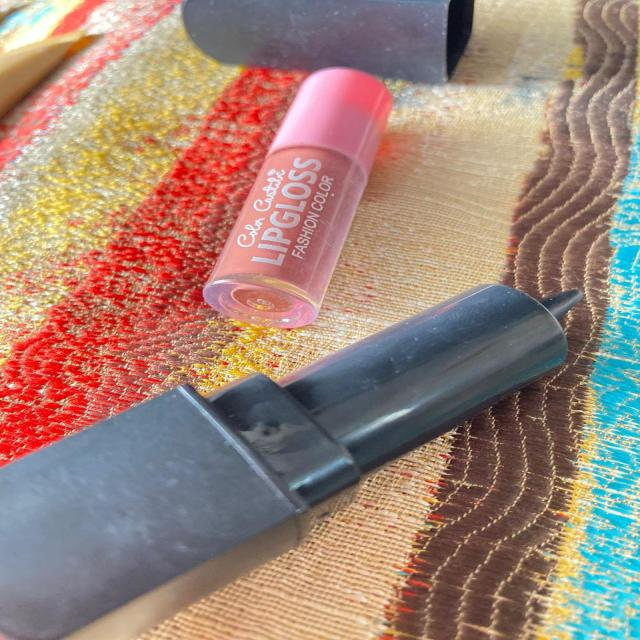kajal: (0, 249, 604, 634)
lip gloss: (172, 52, 426, 334)
